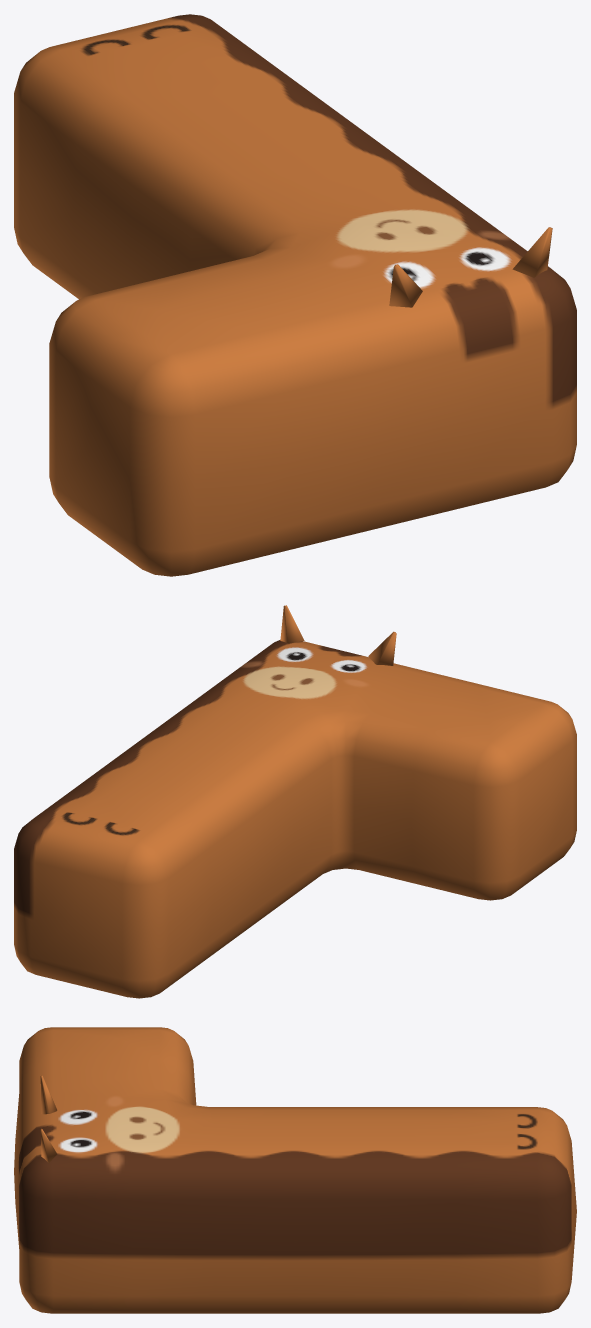
The model's file is Horse_LMirror.fbx.
3 renders of one model, top to bottom at view 1: azimuth 30°, elevation 25°; view 2: azimuth 150°, elevation 25°; view 3: azimuth 270°, elevation 25°, orthographic. The views are drawn at different scales.
Visible parts, largest first — view 1: Horse_LMirror; view 2: Horse_LMirror; view 3: Horse_LMirror.
Part boxes in pixels (left/top/right/bottom): Horse_LMirror: left=14, top=14, right=576, bottom=576; Horse_LMirror: left=14, top=605, right=576, bottom=998; Horse_LMirror: left=14, top=1027, right=576, bottom=1313.
Bounding box in the file's own units: 1.98 × 1.04 × 2.98.
Materials: 1 (1 with a texture image).
